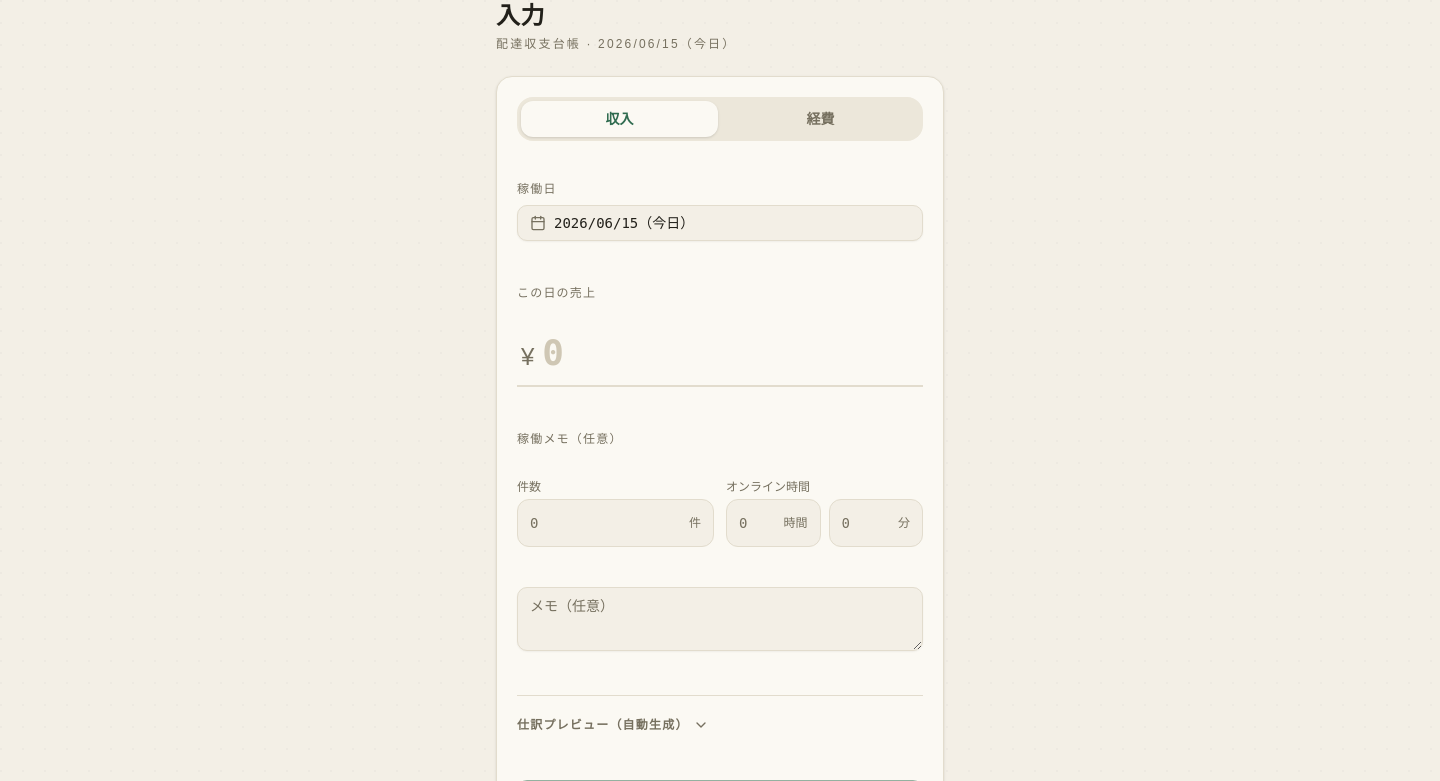
Test: EntryInputForm › 未来の日付はカレンダーで選択できない
Step 1. Click the button named "稼働日" → (624,223), box [517, 205, 923, 241]
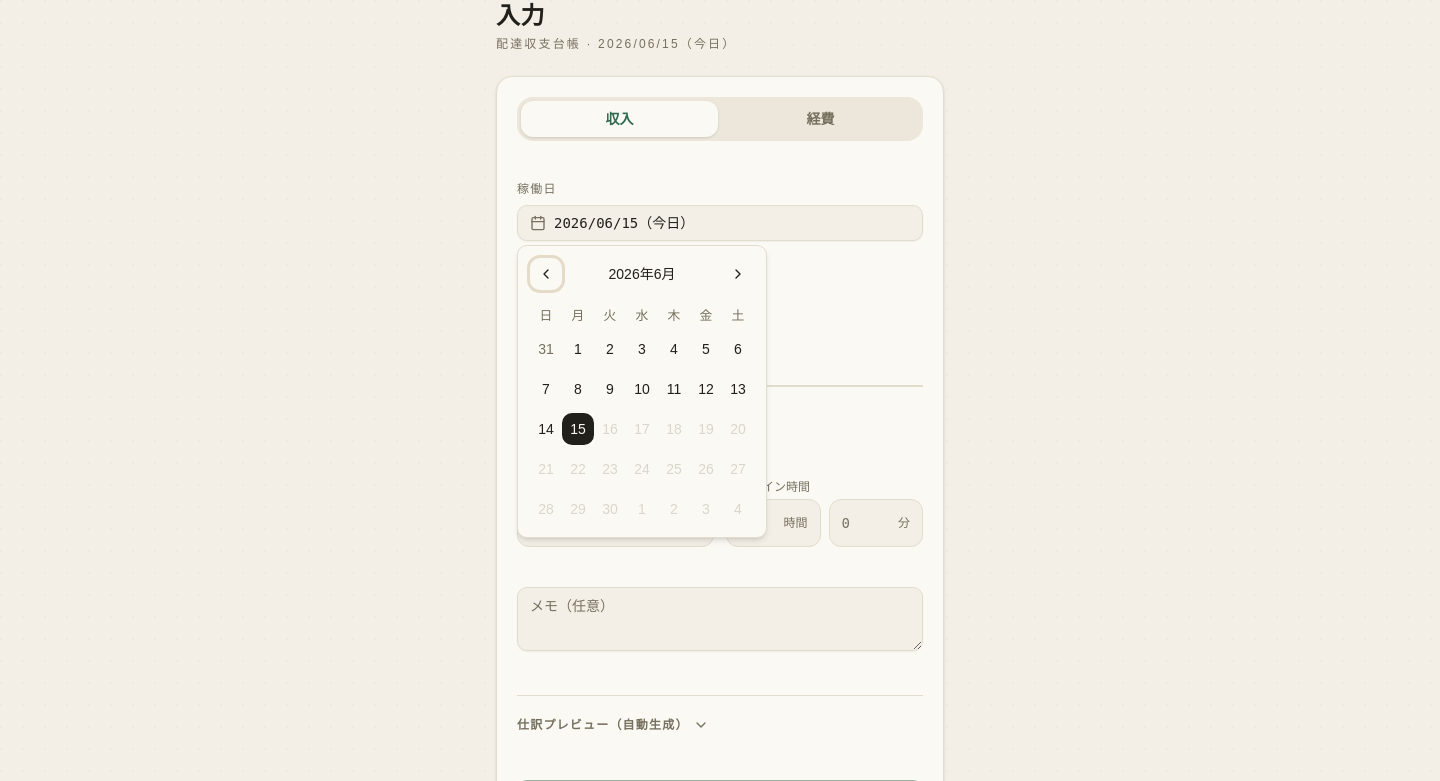
expect the button "16" is disabled: met, box [594, 413, 626, 445]
